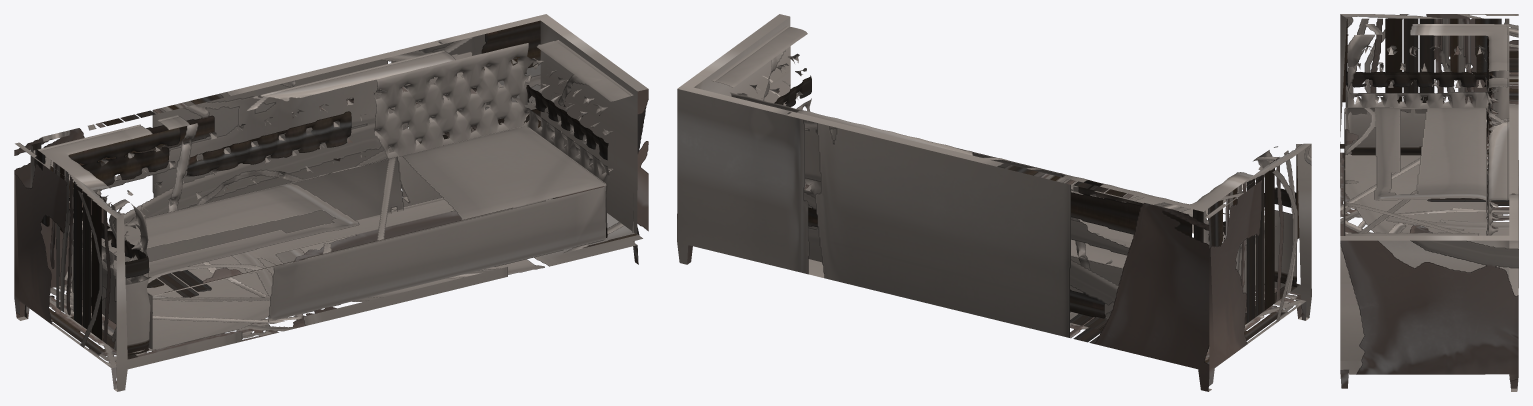
File: raw_model.obj
3 views of the same model, side by side, from view 1: azimuth 30°, elevation 25°; view 2: azimuth 150°, elevation 25°; view 3: azimuth 270°, elevation 25° (orthographic). The views are drawn at different scales.
Parts seen in each view (by area): view 1: solid_002, solid_001; view 2: solid_001, solid_002; view 3: solid_001, solid_002.
Boxes of the visible parts, box(x1,y1,x2,y2) form: solid_002: box(33, 40, 633, 355); solid_001: box(14, 14, 648, 391); solid_001: box(677, 14, 1311, 391); solid_002: box(712, 26, 1296, 319); solid_001: box(1340, 14, 1518, 391); solid_002: box(1343, 24, 1509, 235).
Bounding box in the file's own units: 2.44 × 0.7632 × 0.8121.
